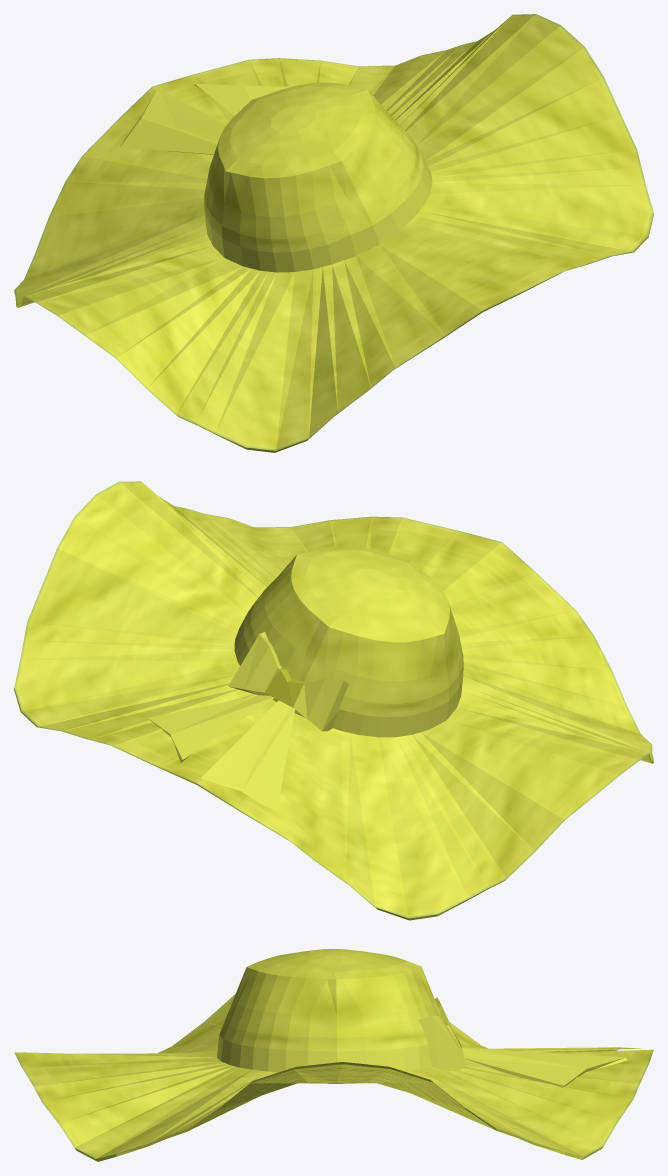
Rendered from SUNNY SUNHAT.fbx.
3 views of the same model, one above another, from view 1: azimuth 30°, elevation 25°; view 2: azimuth 150°, elevation 25°; view 3: azimuth 270°, elevation 25° (orthographic).
Parts seen in each view (by area): view 1: SUNNY_SUNHAT; view 2: SUNNY_SUNHAT; view 3: SUNNY_SUNHAT.
Boxes of the visible parts, <box> form: SUNNY_SUNHAT: <box>14,14,653,452</box>; SUNNY_SUNHAT: <box>14,481,653,920</box>; SUNNY_SUNHAT: <box>14,949,653,1161</box>.
Size of the model in its own units: 74.77 by 33.04 by 80.
